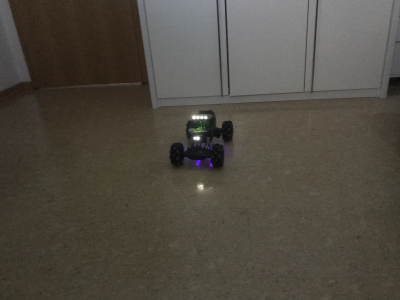remote control car: (165, 105, 235, 172)
